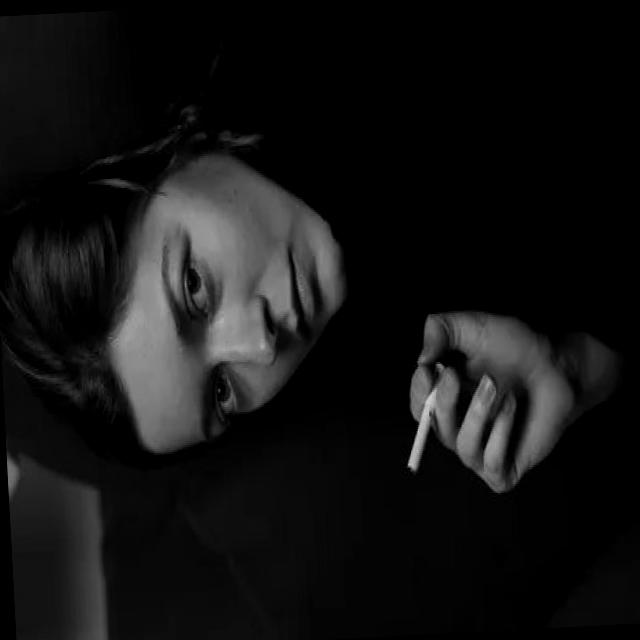smoke: (396, 357, 454, 484)
